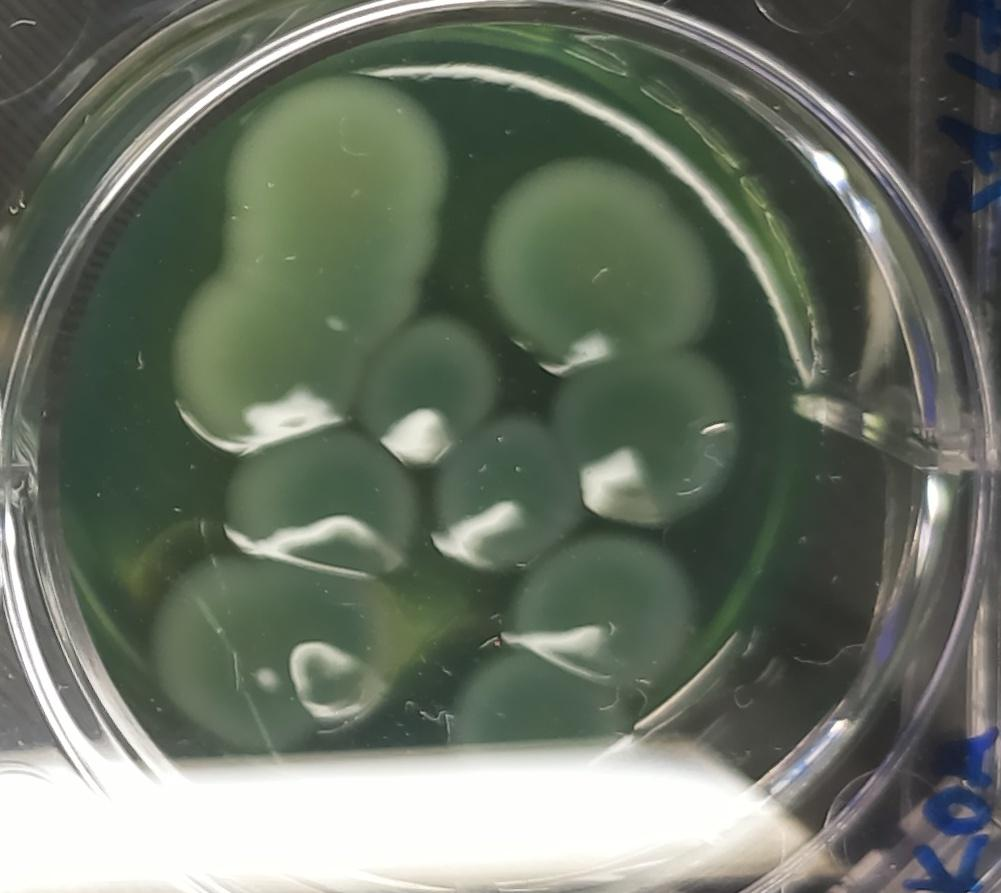valgino: (160, 88, 455, 456), (134, 536, 416, 750), (472, 146, 710, 371), (551, 344, 752, 536), (518, 518, 712, 702), (224, 418, 426, 592), (436, 646, 633, 792), (426, 409, 575, 580), (362, 312, 497, 473)
